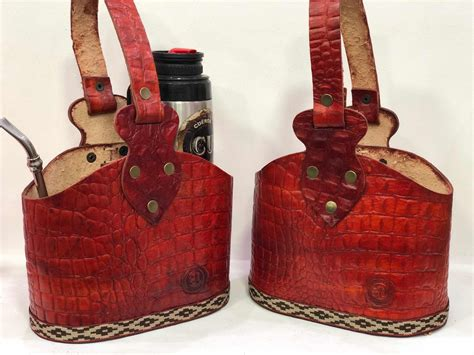cuero: (23, 1, 454, 343)
